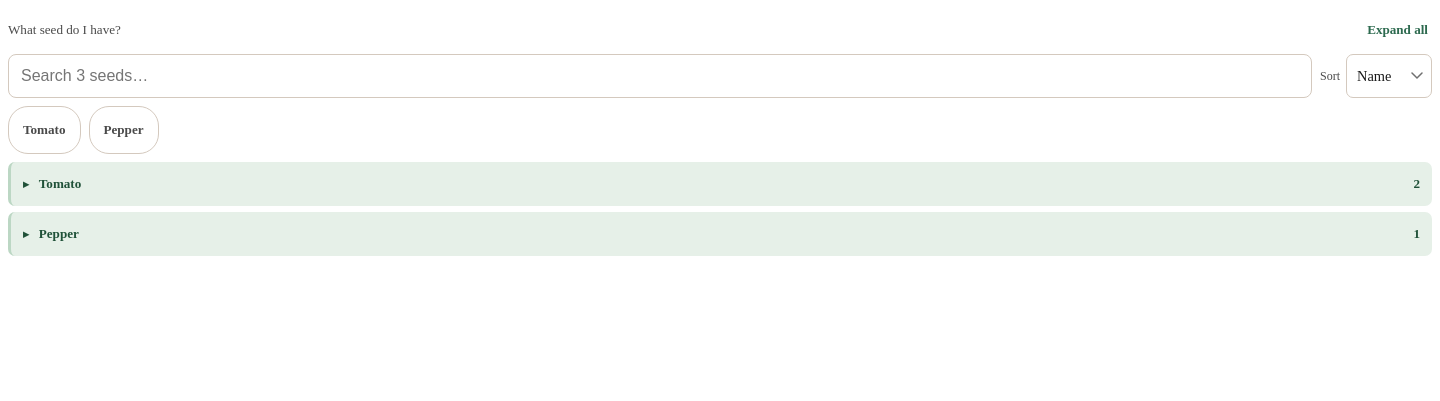
Test: My seeds — folding groups › a group folded by hand during a search stays folded until the search changes
The image size is (1440, 401).
In the search field with test id "my-seeds-search": point(660, 76) [8,54,1312,98], type "o"
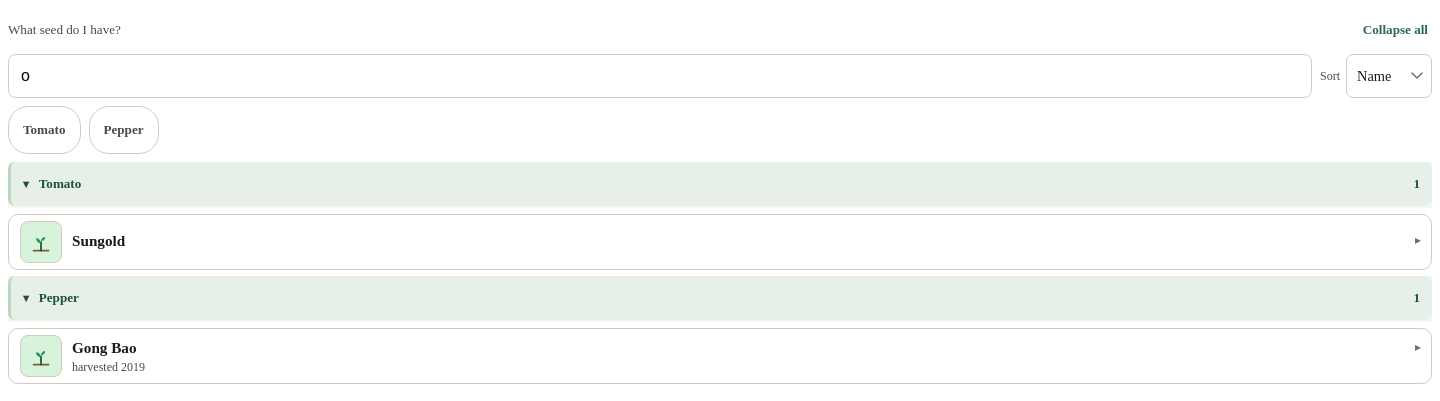
Expected: the button with test id "facet-group-header" is expanded
Click the button with test id "facet-group-header" showing "▾ Tomato 1": point(60, 184) [8,162,1432,206]
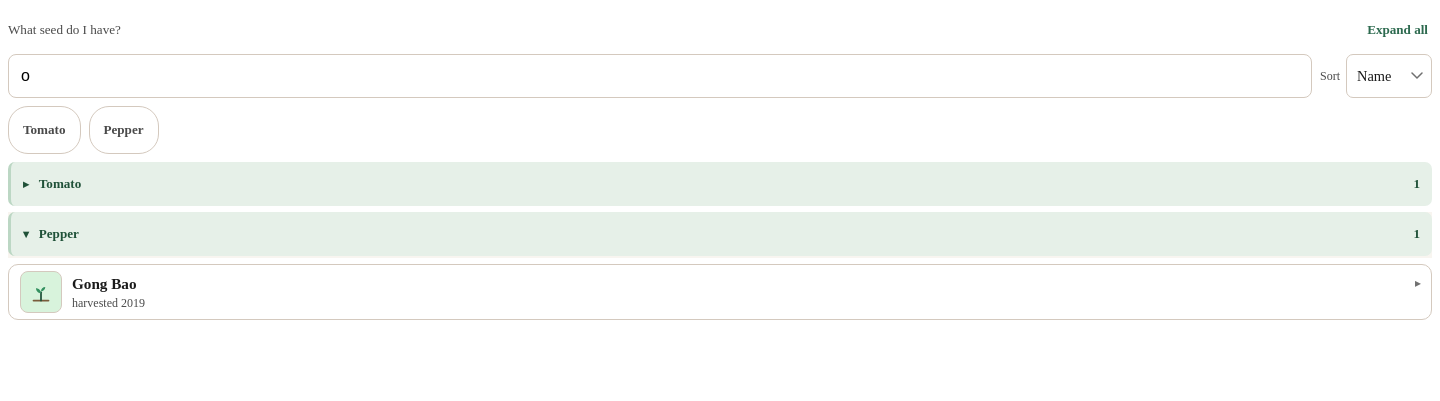
Expected: the button with test id "facet-group-header" is collapsed, [8,162,1432,206]
Replace the text in the search field with test id "my-seeds-search" with "go": point(660, 76) [8,54,1312,98]
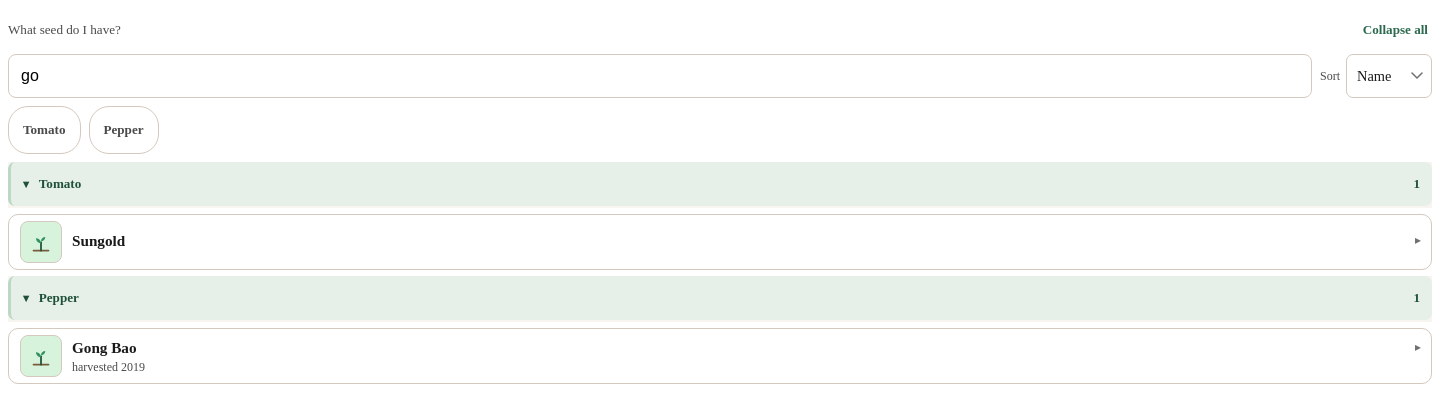
Expected: the button with test id "facet-group-header" is expanded, [8,162,1432,206]
